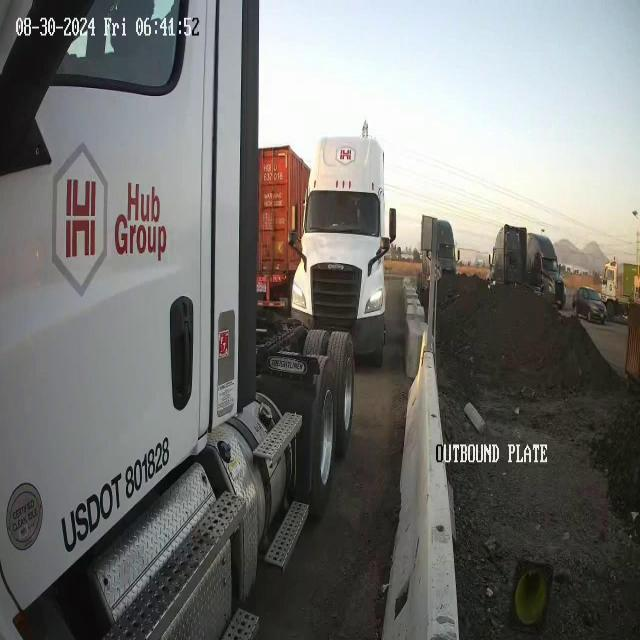TRUCK_OUT: (0, 10, 349, 639), (288, 120, 396, 366)
